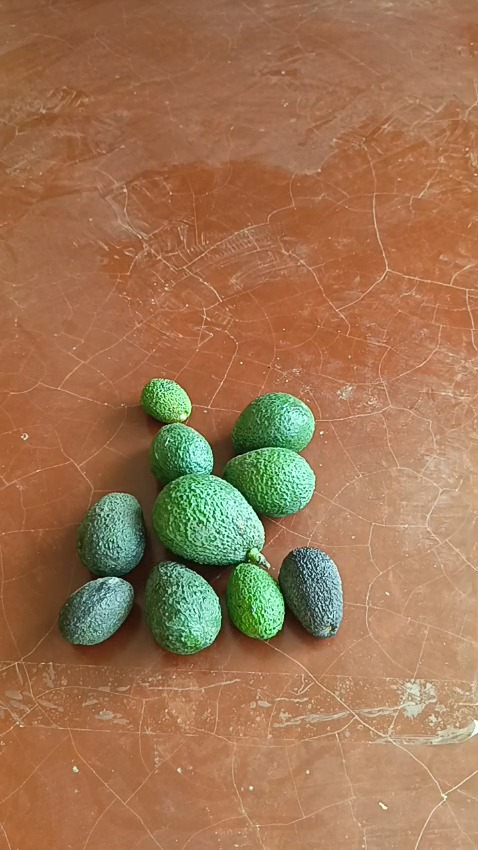Primera: (151, 473, 264, 565)
Segunda: (142, 558, 222, 654), (222, 447, 316, 518), (76, 492, 147, 578), (230, 392, 316, 454), (148, 422, 215, 486)
Tercera: (278, 546, 344, 637), (57, 574, 136, 646), (225, 559, 285, 639), (139, 377, 192, 423)
